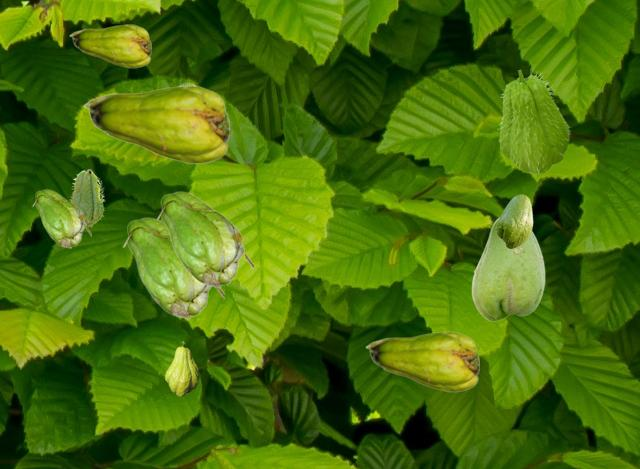sayote: (83, 85, 228, 163), (122, 217, 223, 318), (156, 191, 252, 287), (497, 68, 570, 173), (471, 217, 544, 320), (365, 331, 478, 391), (69, 24, 150, 67), (32, 189, 90, 247), (69, 169, 104, 227), (495, 194, 532, 248), (165, 341, 198, 395), (178, 82, 194, 85)
